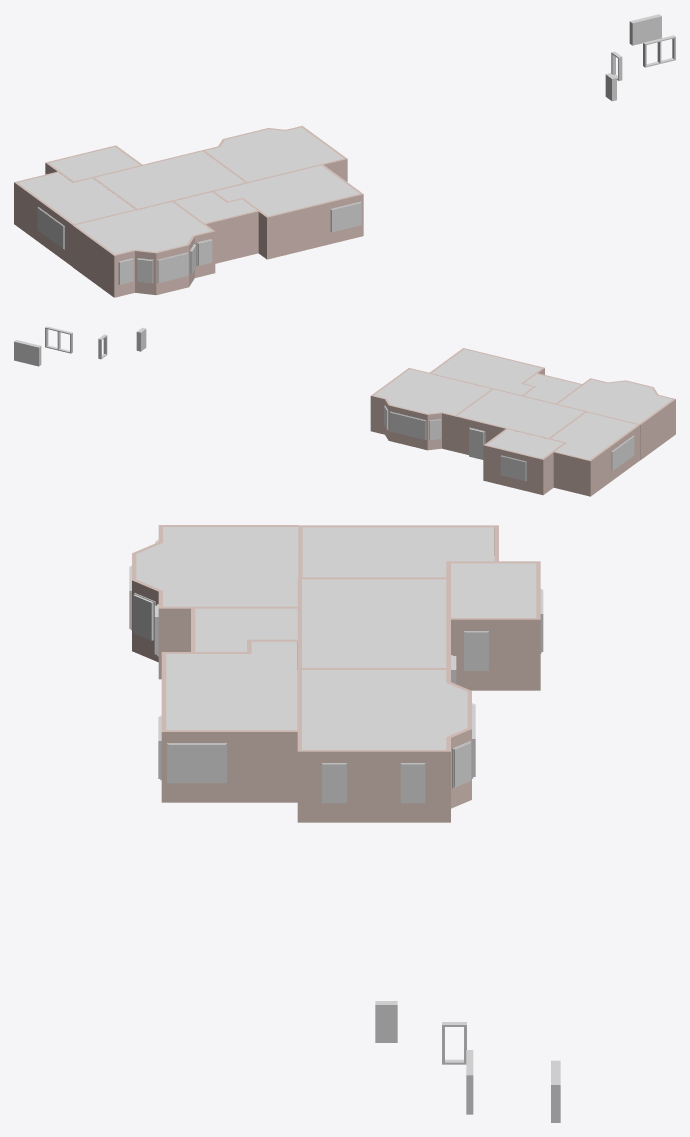
Rendered from Main house_windowsfinal.fbx.
The picture shows the model from 3 angles, top to bottom: view 1: azimuth 30°, elevation 25°; view 2: azimuth 150°, elevation 25°; view 3: azimuth 270°, elevation 25°; orthographic projection. The views are drawn at different scales.
Visible parts, largest first — view 1: Ceiling, Room.001, Ceiling.006, Room.003, Ceiling.002, Ceiling.005, Ceiling.003, Room, Room.002, Ceiling.004, Ceiling.001, Cube.014 (+6 smaller); view 2: Ceiling, Ceiling.006, Ceiling.002, Room, Ceiling.005, Room.004, Ceiling.003, Side Room 1, Room.001, Main Room, Ceiling.004, Ceiling.001 (+7 smaller); view 3: Ceiling, Ceiling.006, Ceiling.002, Ceiling.005, Room.004, Ceiling.003, Room.003, Side Room 1, Ceiling.004, Ceiling.001, Room.001, Cube.045 (+6 smaller).
Part boxes in pixels (<box>): Ceiling: <box>95,151,244,208</box>; Room.001: <box>73,201,215,297</box>; Ceiling.006: <box>205,127,343,181</box>; Room.003: <box>248,164,363,259</box>; Ceiling.002: <box>75,202,211,254</box>; Ceiling.005: <box>214,165,359,215</box>; Ceiling.003: <box>18,172,134,223</box>; Room: <box>14,171,135,266</box>; Room.002: <box>205,191,260,263</box>; Ceiling.004: <box>49,147,139,181</box>; Ceiling.001: <box>174,192,256,223</box>; Cube.014: <box>629,14,661,45</box>; Ceiling: <box>457,389,583,437</box>; Ceiling.006: <box>374,369,490,415</box>; Ceiling.002: <box>558,379,672,423</box>; Room: <box>553,411,640,496</box>; Ceiling.005: <box>431,349,541,395</box>; Room.004: <box>370,368,454,451</box>; Ceiling.003: <box>551,412,637,459</box>; Side Room 1: <box>483,429,566,495</box>; Room.001: <box>556,378,675,459</box>; Main Room: <box>454,388,587,454</box>; Ceiling.004: <box>487,429,563,458</box>; Ceiling.001: <box>524,374,580,403</box>; Ceiling: <box>302,579,446,667</box>; Ceiling.006: <box>302,670,467,749</box>; Ceiling.002: <box>136,527,298,606</box>; Ceiling.005: <box>166,641,297,729</box>; Room.004: <box>297,670,471,822</box>; Ceiling.003: <box>302,527,494,577</box>; Room.003: <box>161,652,301,802</box>; Side Room 1: <box>446,561,540,690</box>; Ceiling.004: <box>451,563,536,617</box>; Ceiling.001: <box>195,608,297,651</box>; Room.001: <box>132,525,298,679</box>; Cube.045: <box>168,744,225,782</box>.
Size of the model in its own units: 4318 by 265 by 1434.
